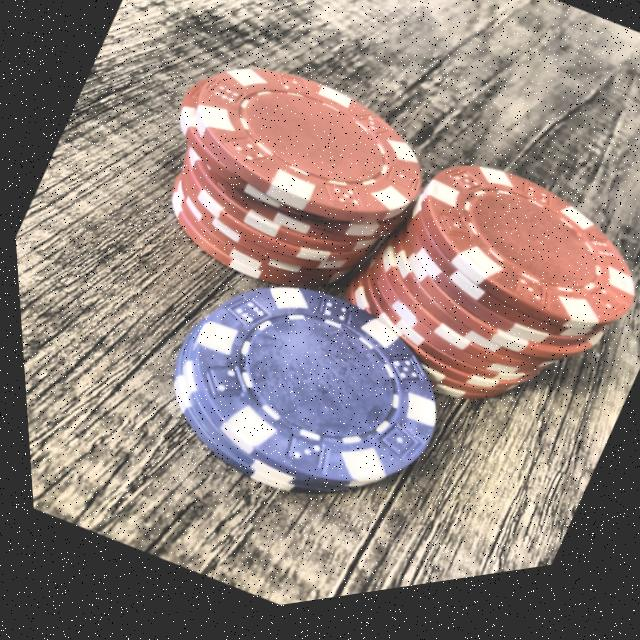Chip: (301, 117, 640, 491), (123, 229, 477, 576), (109, 17, 455, 361)
